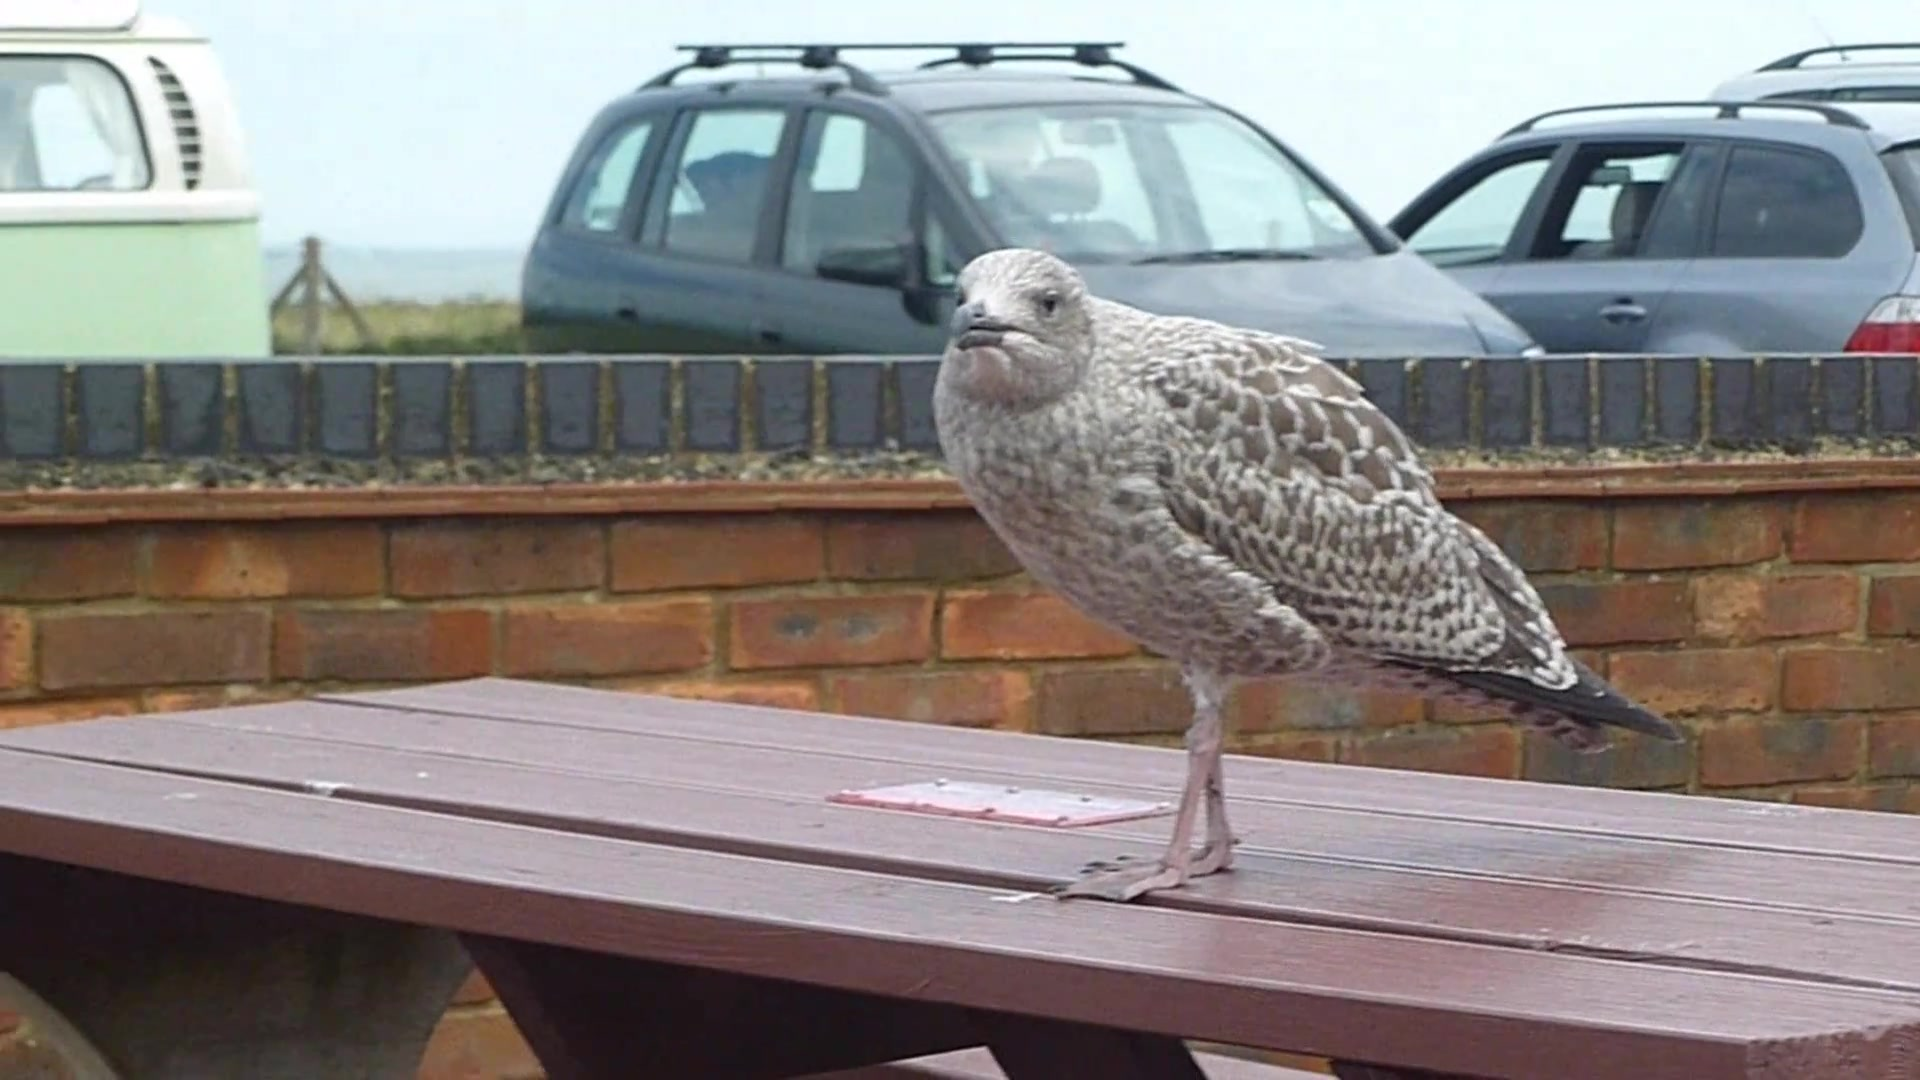bird: (928, 249, 1687, 903)
